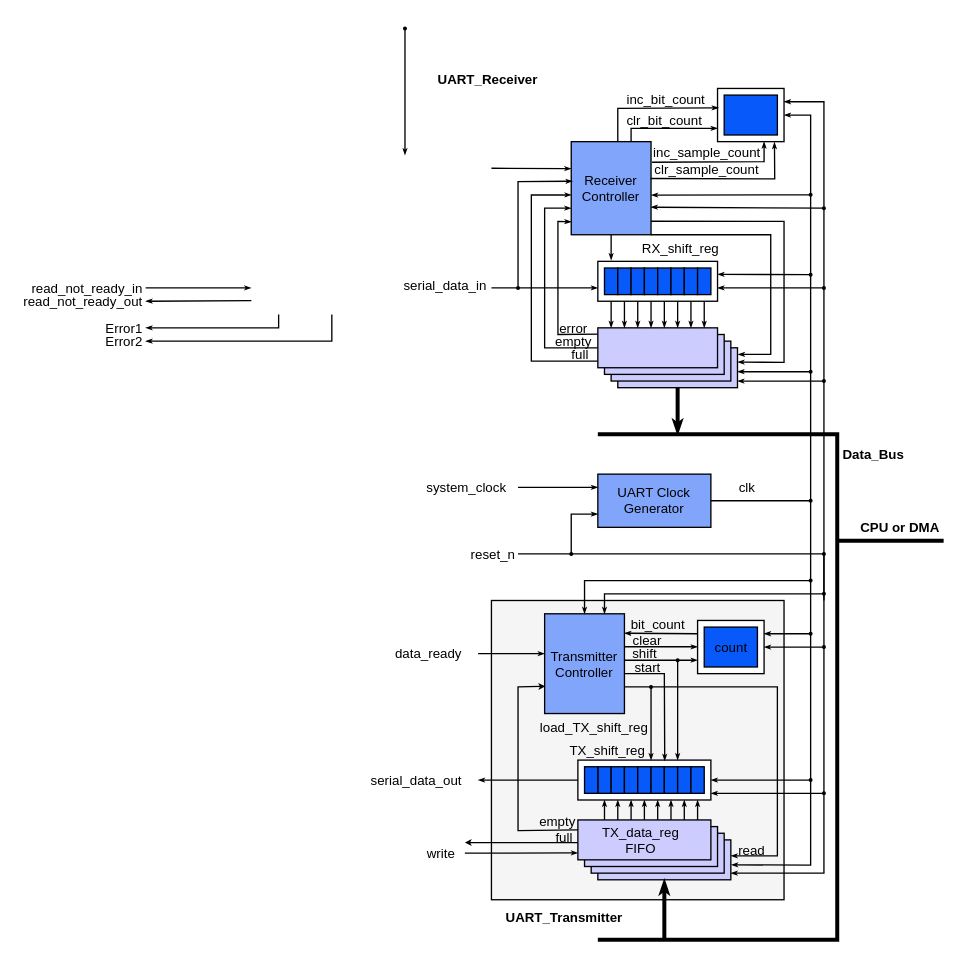
Some shapes in this 970 by 970 pixel diagram are drawn without their labels. The shapes that lost their labels are listed below. From the top down, each one's box as (x1, y1, x2, y2) in pixels, then its label:
(723, 94, 777, 135): count1
(597, 327, 718, 368): RX_data_reg FIFO
